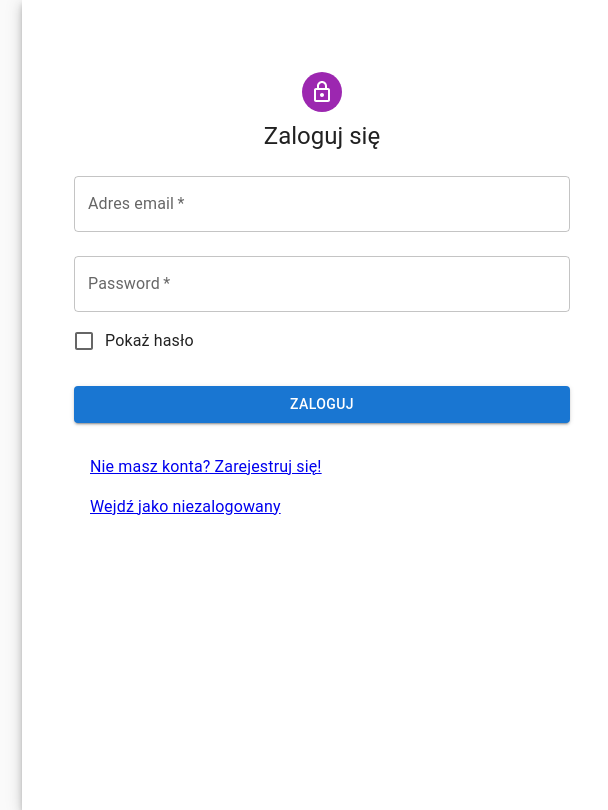
it: Login › should display email validation error
The width and height of the screenshot is (608, 810).
Step 1. Click the button "Zaloguj" → (322,404), box [74,386,570,422]
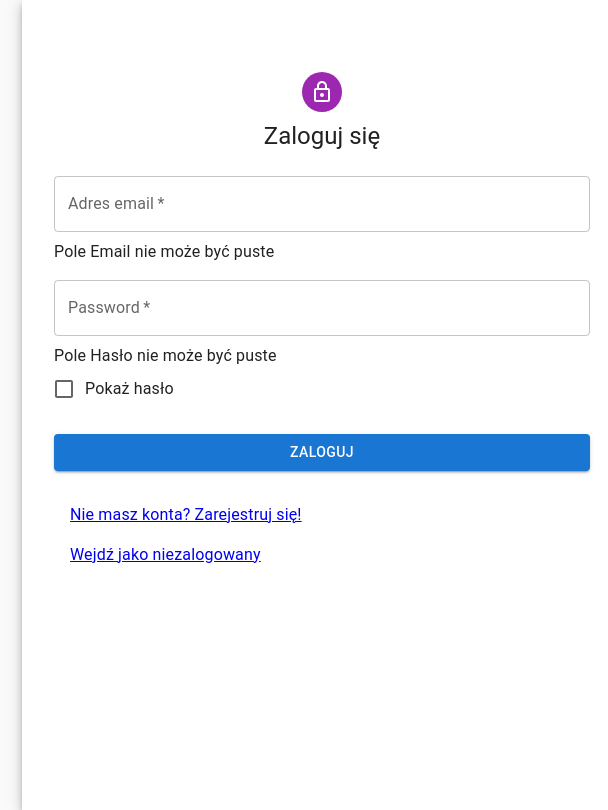
Result: the text "Pole Email nie może być puste" is shown at [54,242,274,261]
